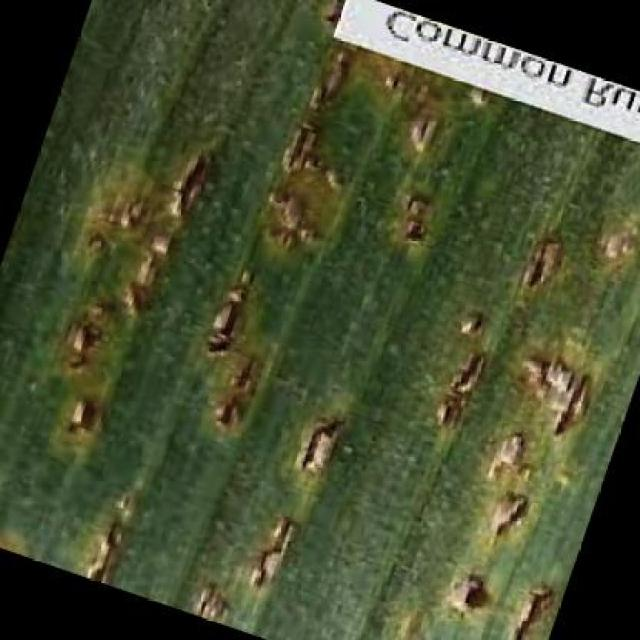Corn_Rust: (51, 120, 569, 566)
